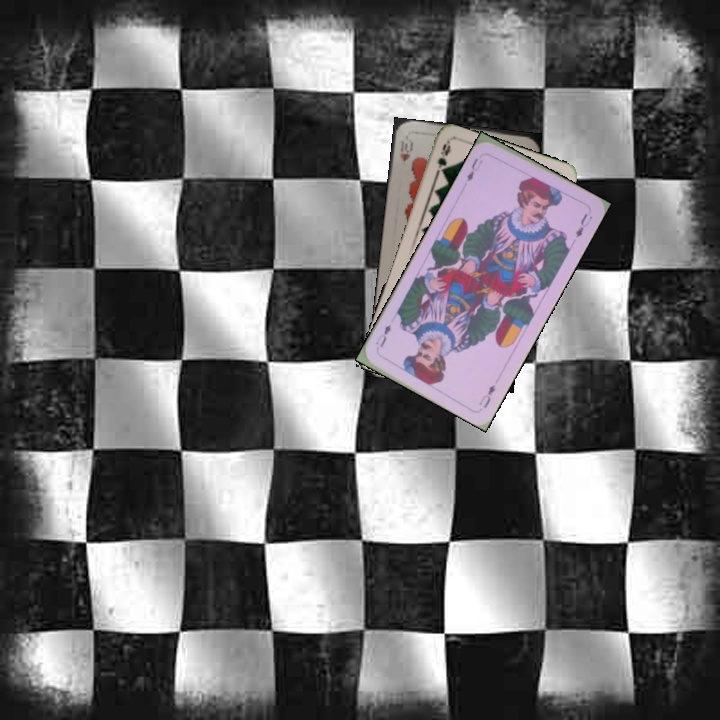EU: (475, 380, 498, 411), (463, 154, 485, 184)
G9: (432, 138, 453, 177)
H10: (396, 133, 415, 164)
